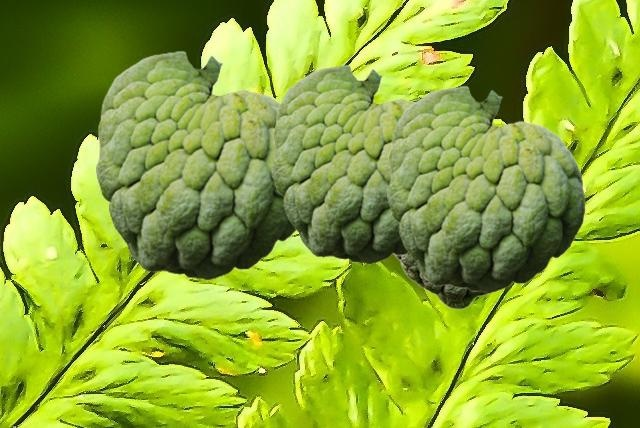atis: (96, 50, 295, 279), (387, 85, 584, 292), (272, 64, 417, 263), (394, 254, 492, 308)
